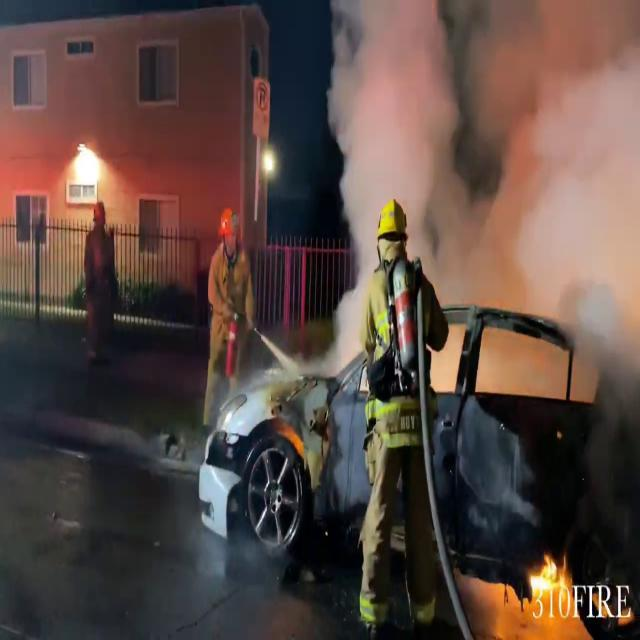Smoke: (321, 0, 640, 334)
